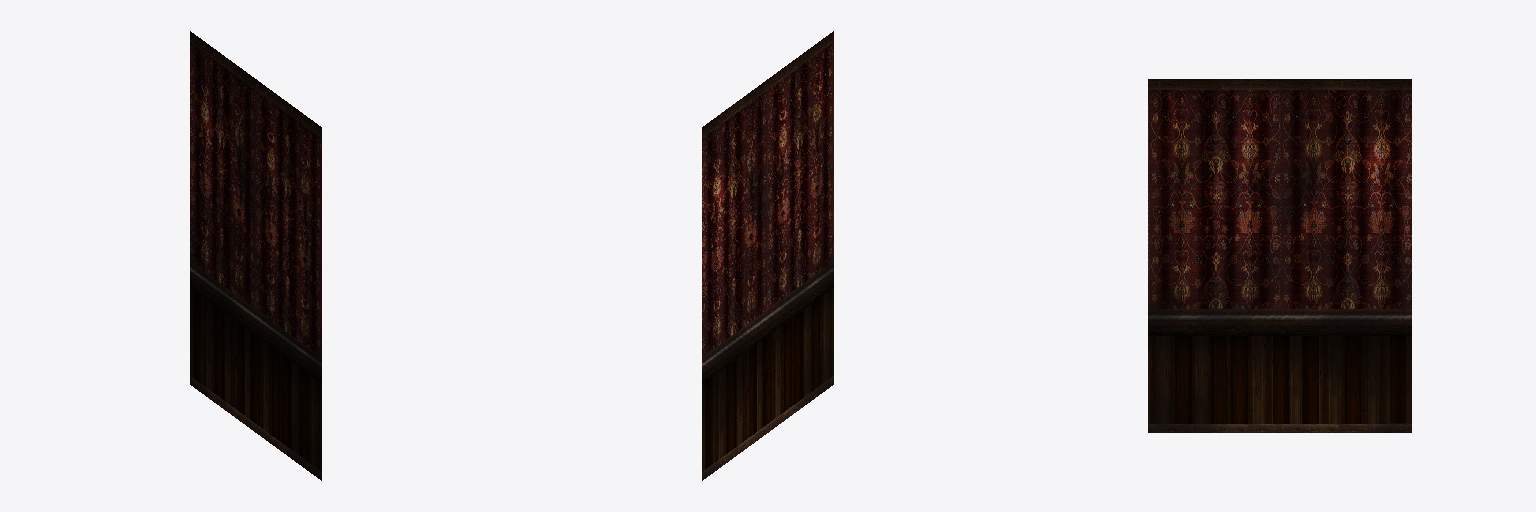
3 renders of one model, left to right at view 1: azimuth 30°, elevation 25°; view 2: azimuth 150°, elevation 25°; view 3: azimuth 270°, elevation 25°, orthographic.
Parts seen in each view (by area): view 1: Cube; view 2: Cube; view 3: Cube.
Boxes of the visible parts, <box> form: Cube: <box>190,31,321,480</box>; Cube: <box>702,31,833,480</box>; Cube: <box>1148,79,1411,432</box>.
Size of the model in its own units: 0 by 5.92 by 4.
Materials: 1 (1 with a texture image).